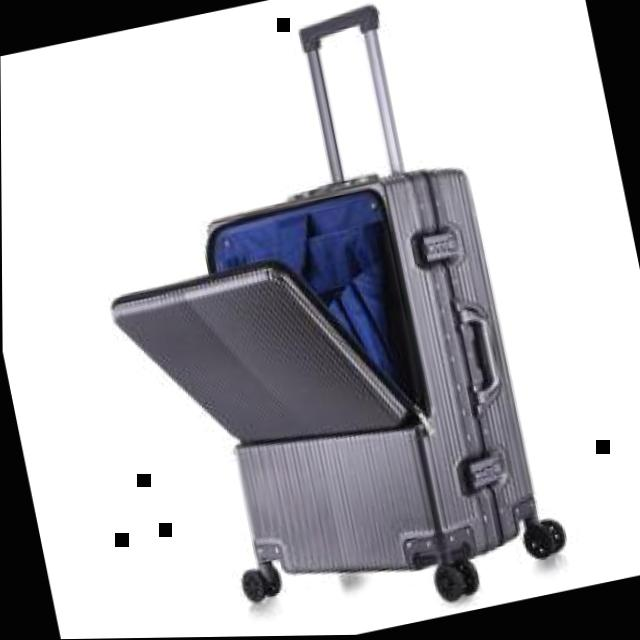luggage: (83, 141, 555, 637)
